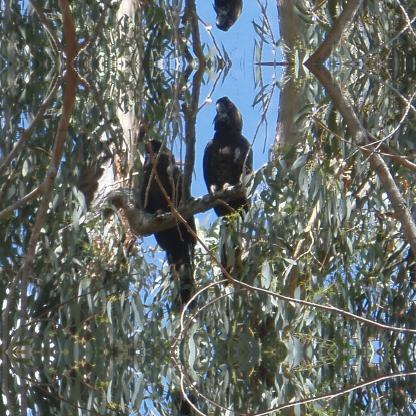Bird: (127, 128, 209, 290), (196, 93, 256, 289)
